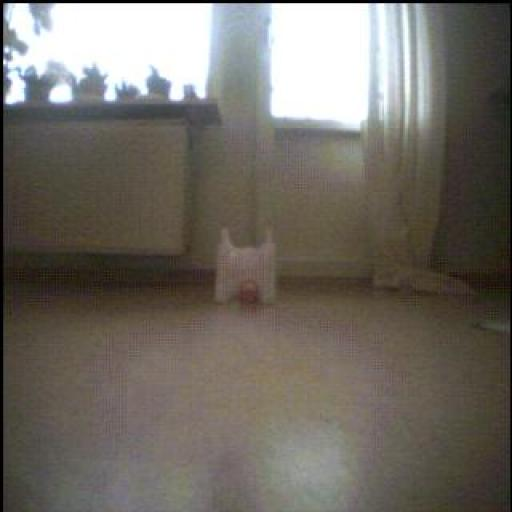Basket: (237, 281, 265, 309)
